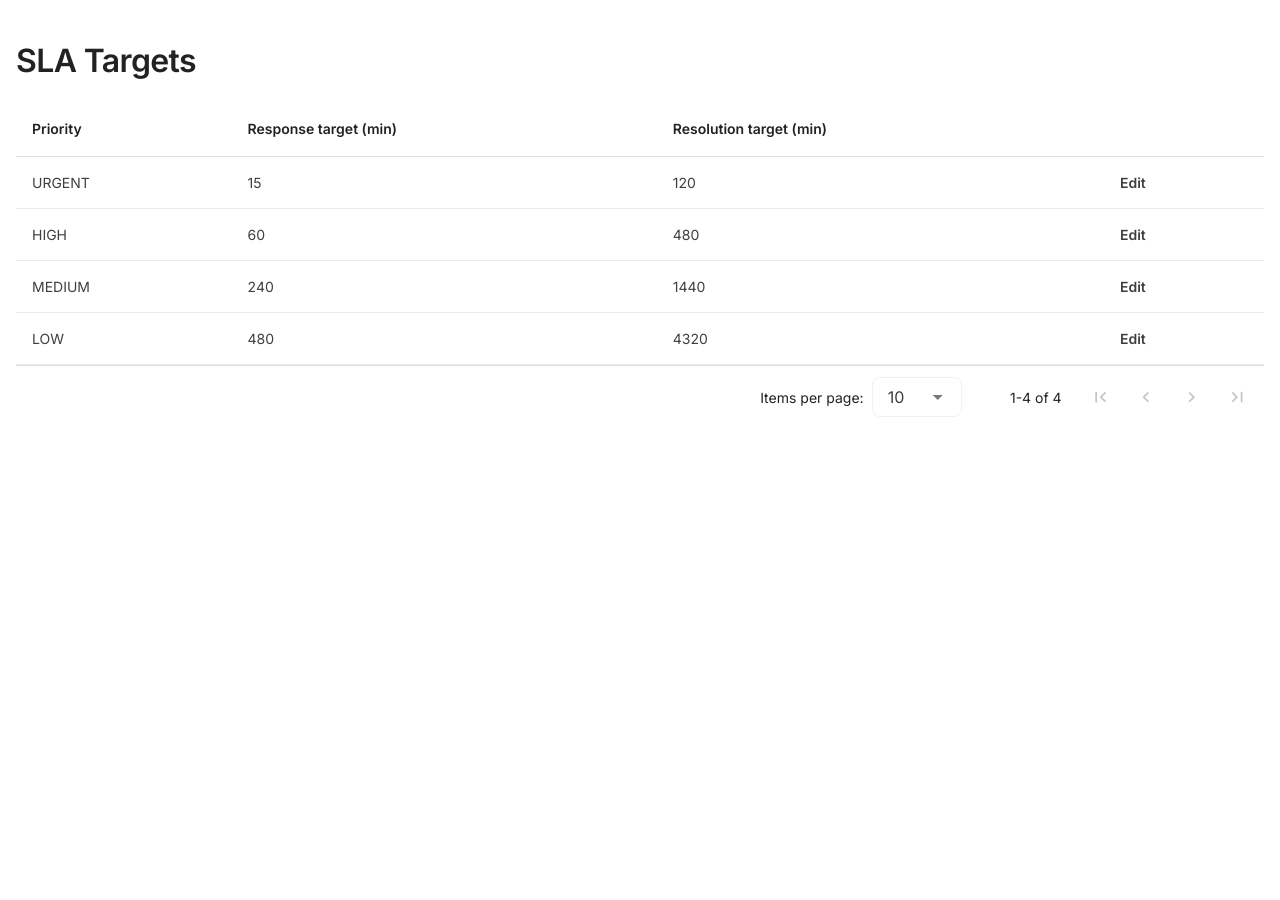
SlaTargetListView › shows a visible error and keeps the dialog open when saving a target is rejected
Click the button "Edit" in the row of "URGENT" at (1133, 183), box [1108,169,1158,197]
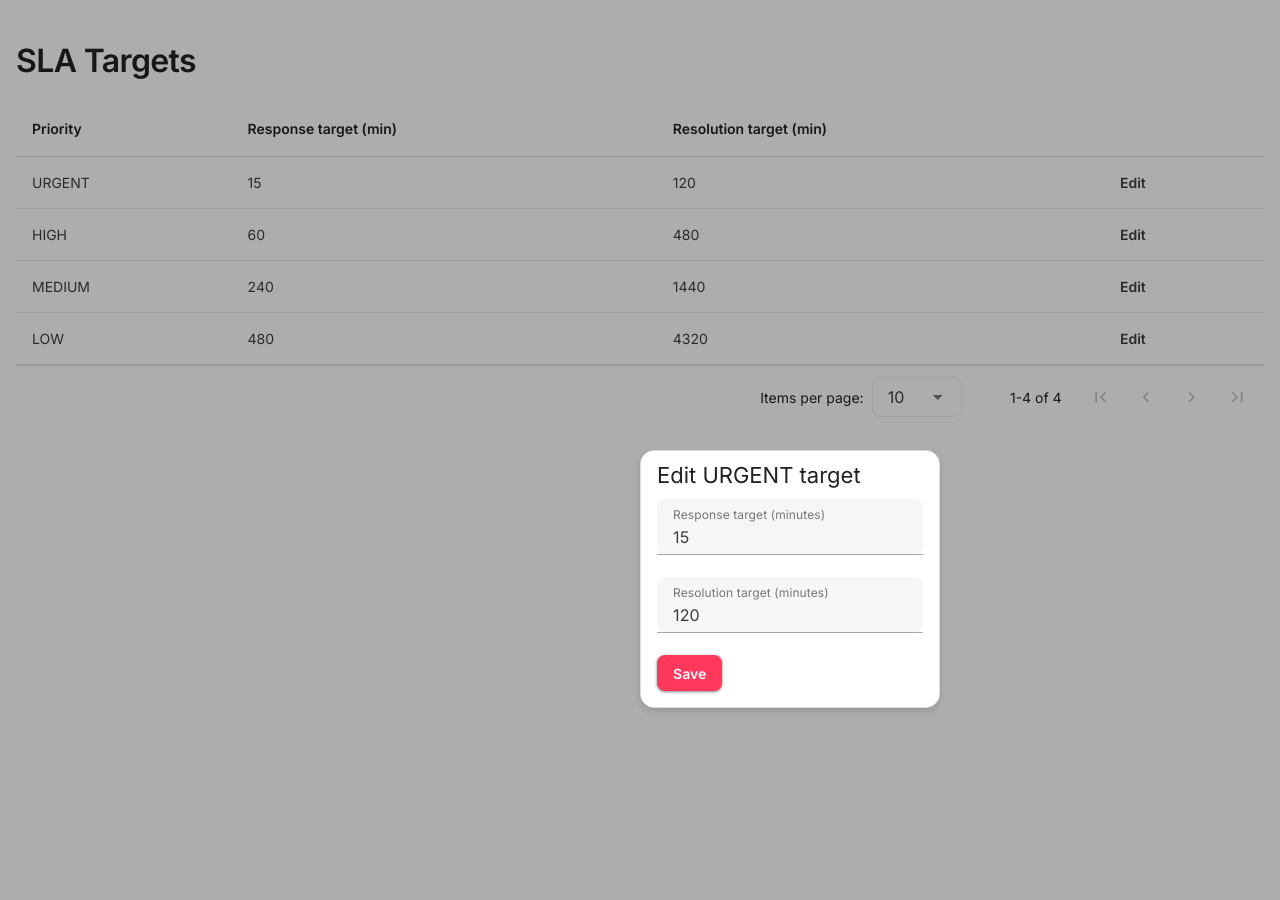
Submit the form, box [657,499,923,691]
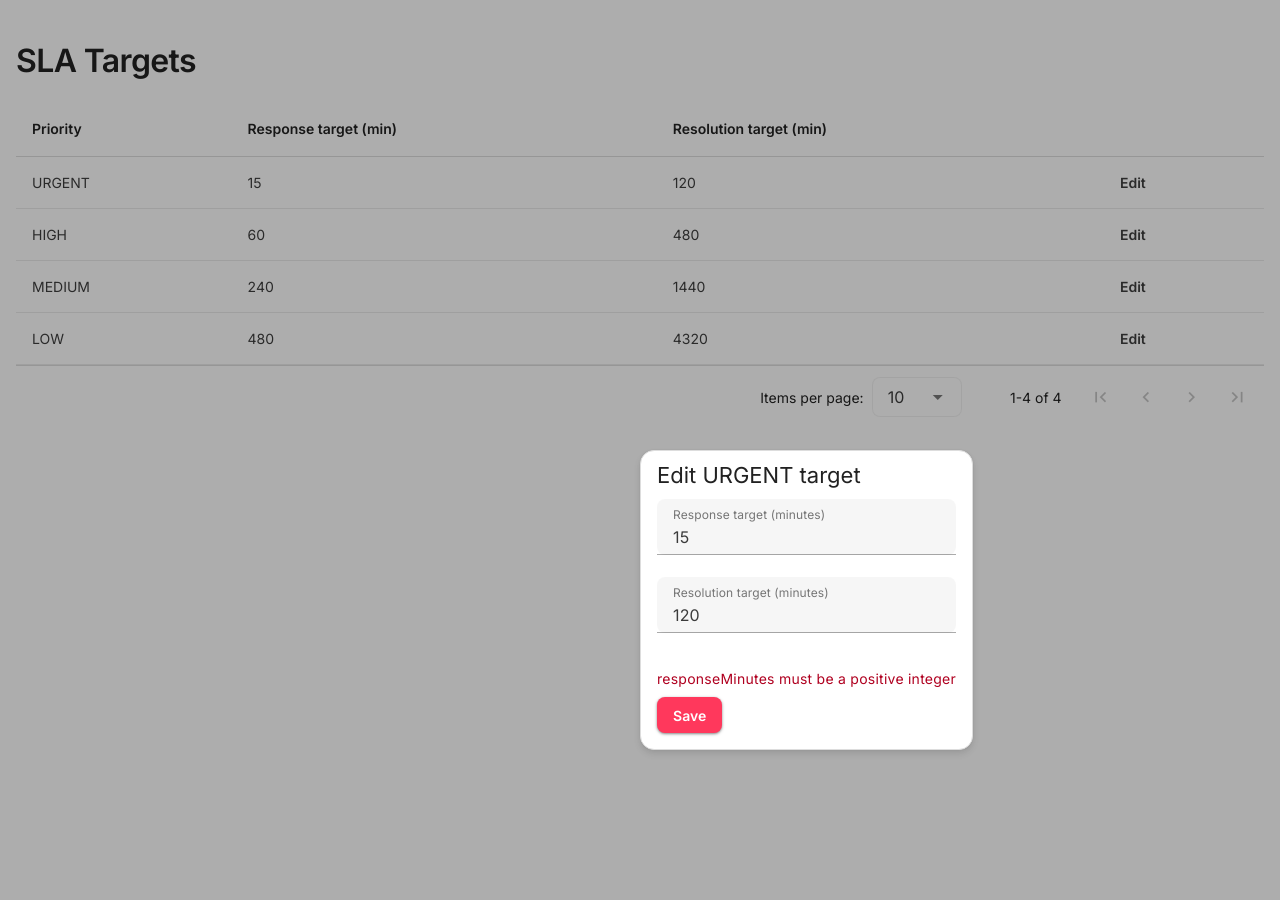
Expected: the form is shown, [657,499,956,733]
Expected: the text "responseMinutes must be a positive integer" is shown, [657,669,956,689]
